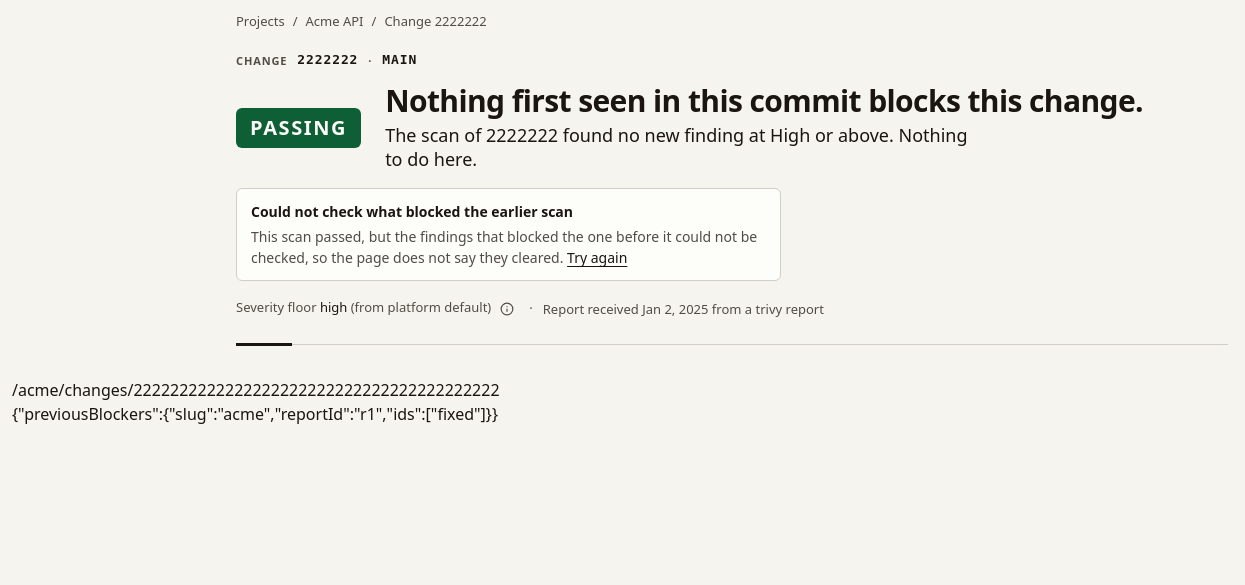
Test: ChangeView after a blocked scan › does not say Unblocked when the earlier scan's gate cannot be read
Expected: the text "Could not check what blocked the earlier scan" is shown, 251,202 -> 573,221
Expected: the heading "What cleared it" is not shown
Click the button "Try again" at (597, 258), box 567,247 -> 627,268
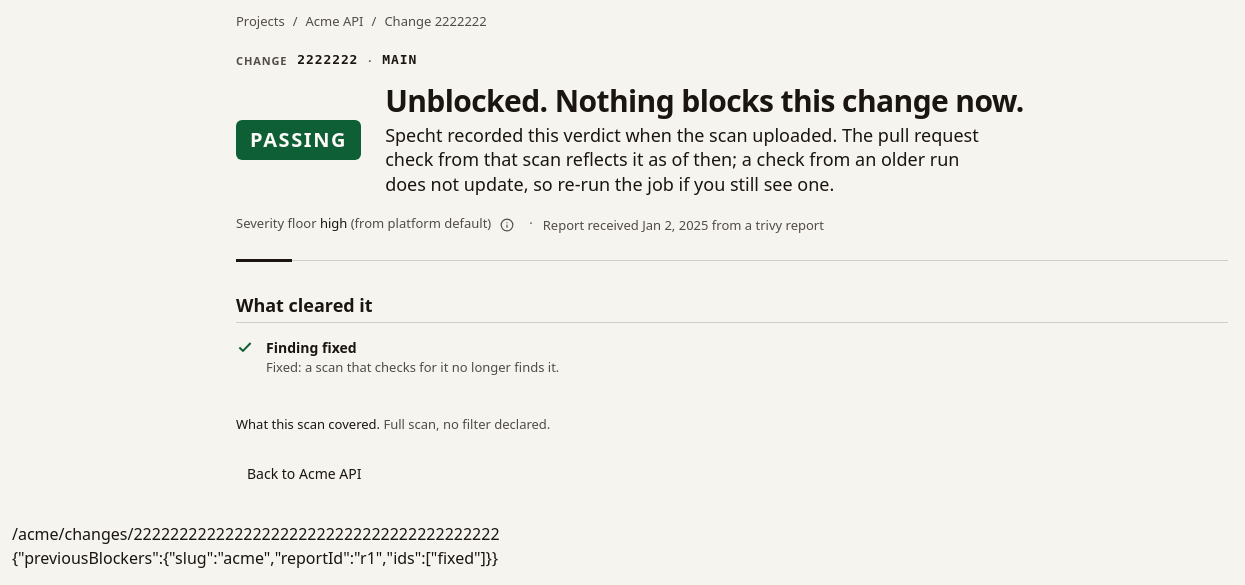
Result: the heading "Unblocked. Nothing blocks this change now." is shown at 385,80 -> 1024,121
